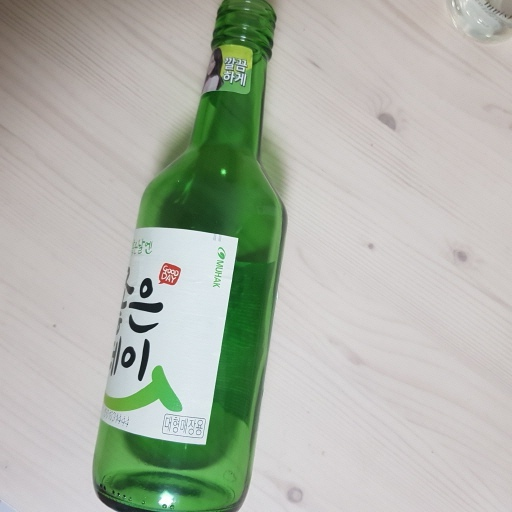Glass_0: (86, 1, 290, 512)
